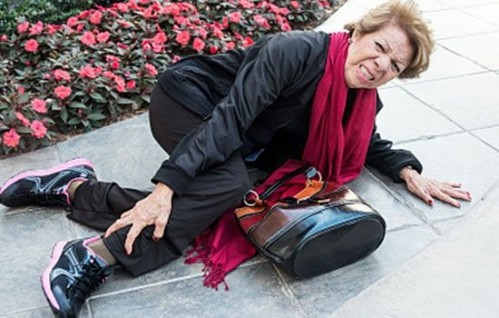fall: (22, 0, 473, 314)
